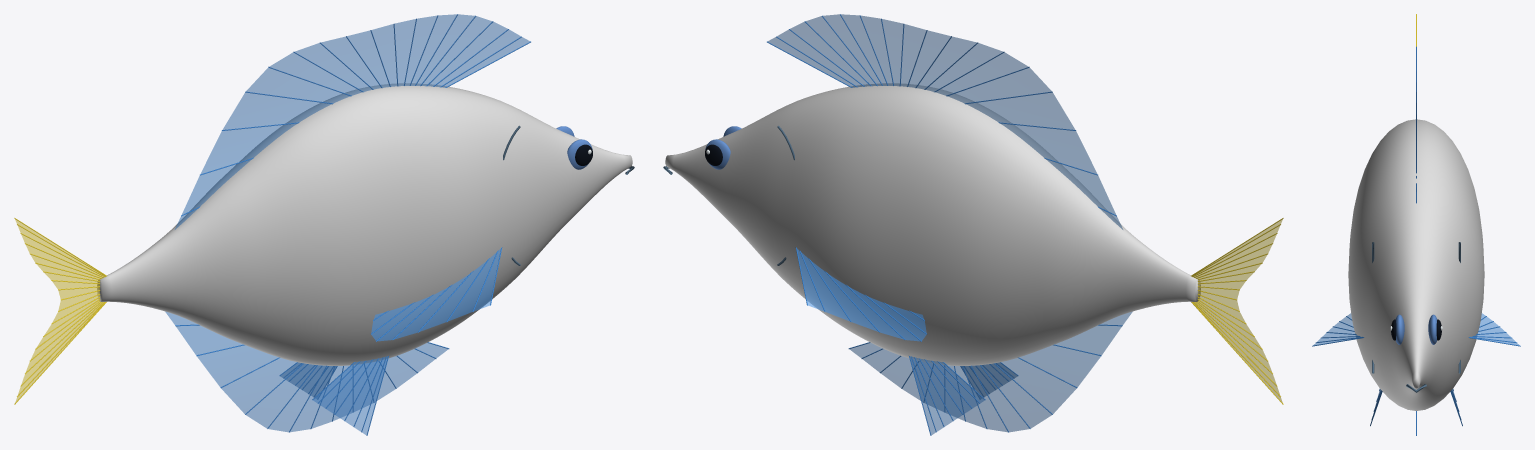
The model's file is blue-tang.glb.
The picture shows the model from 3 angles, left to right: view 1: azimuth 30°, elevation 25°; view 2: azimuth 150°, elevation 25°; view 3: azimuth 270°, elevation 25°; orthographic projection. The views are drawn at different scales.
Visible parts, largest first — view 1: Paracanthurus hepatus sculpted body, dorsal sail, anal sail, caudal fan, pectoral -1, pelvic -1, pelvic 1; view 2: Paracanthurus hepatus sculpted body, dorsal sail, anal sail, caudal fan, pectoral 1, pelvic 1, pelvic -1; view 3: Paracanthurus hepatus sculpted body, pectoral 1, pectoral -1, iris 1, iris -1.
Boxes of the visible parts, x1,y1,x2,y2 form: Paracanthurus hepatus sculpted body: (97,83,632,365); dorsal sail: (175,14,529,229); anal sail: (165,311,448,432); caudal fan: (15,219,103,402); pectoral -1: (371,248,500,341); pelvic -1: (313,356,387,435); pelvic 1: (280,363,336,396); Paracanthurus hepatus sculpted body: (665,83,1200,365); dorsal sail: (768,14,1122,229); anal sail: (849,311,1132,432); caudal fan: (1194,219,1282,402); pectoral 1: (797,248,926,341); pelvic 1: (910,356,984,435); pelvic -1: (961,363,1017,396); Paracanthurus hepatus sculpted body: (1348,119,1484,410); pectoral 1: (1472,313,1519,345); pectoral -1: (1313,313,1360,345); iris 1: (1428,314,1437,344); iris -1: (1395,314,1404,344).
Bounding box in the file's own units: 1.74 × 1.03 × 0.5417.
